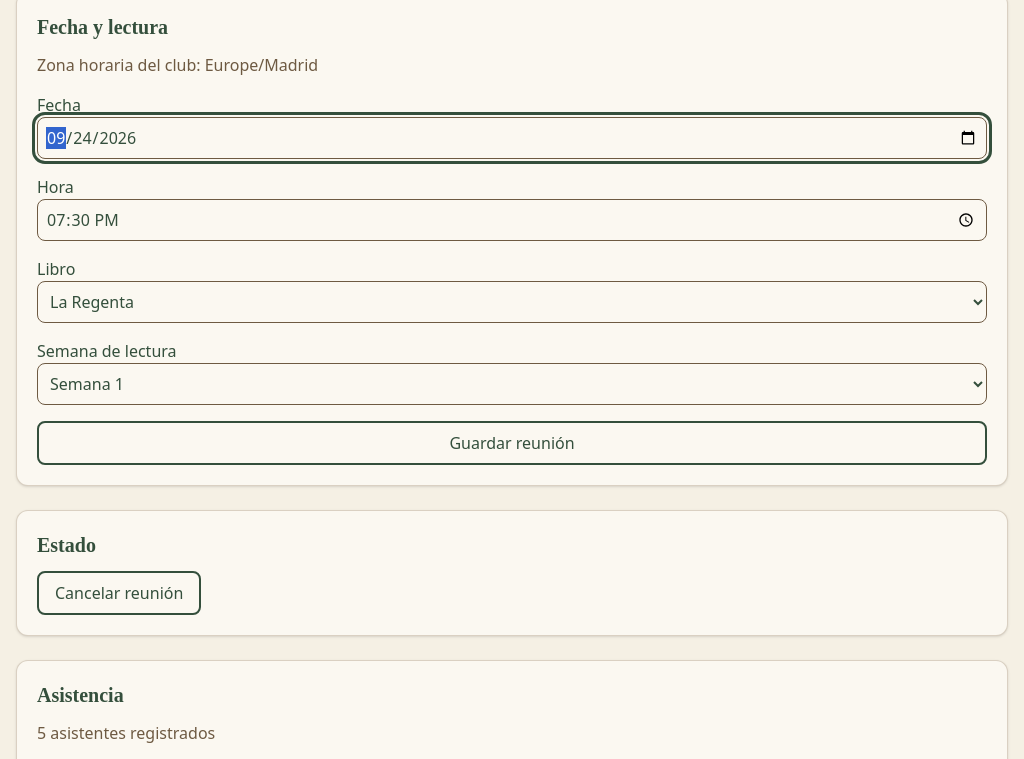
admin meeting calendar › retains a conflicting link on failure and clears week selection when the book changes
The image size is (1024, 759).
(page scrolled)
expect the date field labelled "Fecha" is shown: met, box [37,117,987,159]
Select "Semana 2 (vinculada a otra reunión)" in the dropdown labelled "Semana de lectura" at [512, 384], box [37,363,987,405]
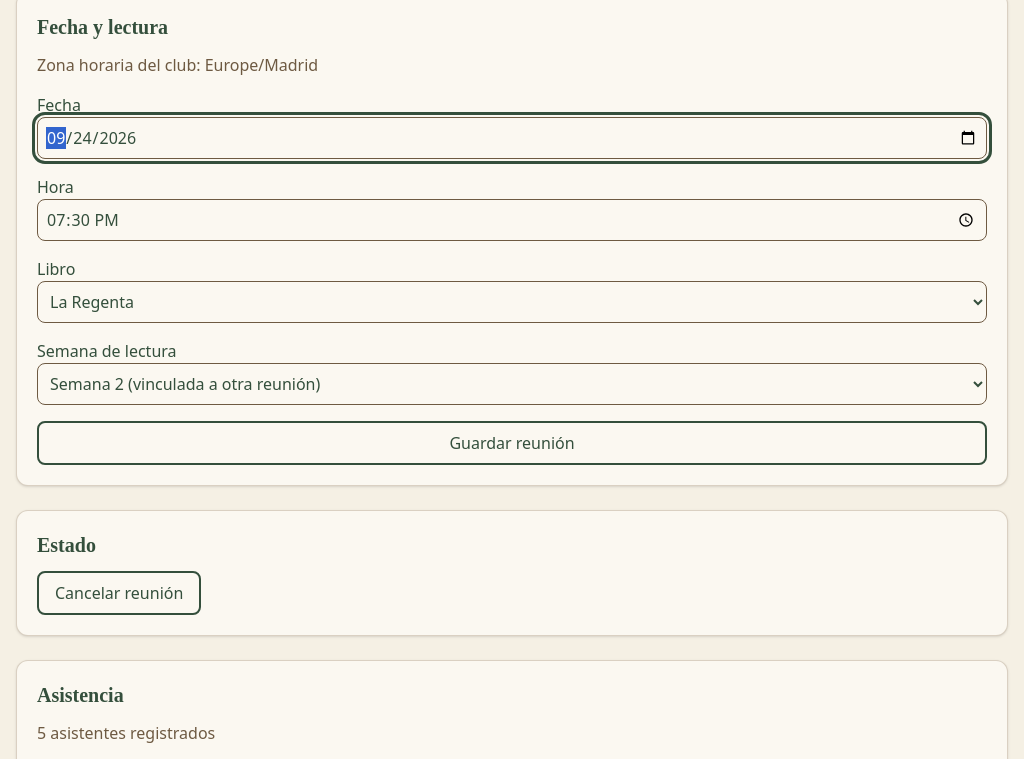
Click the button "Guardar reunión" at [512, 443], box [37,421,987,465]
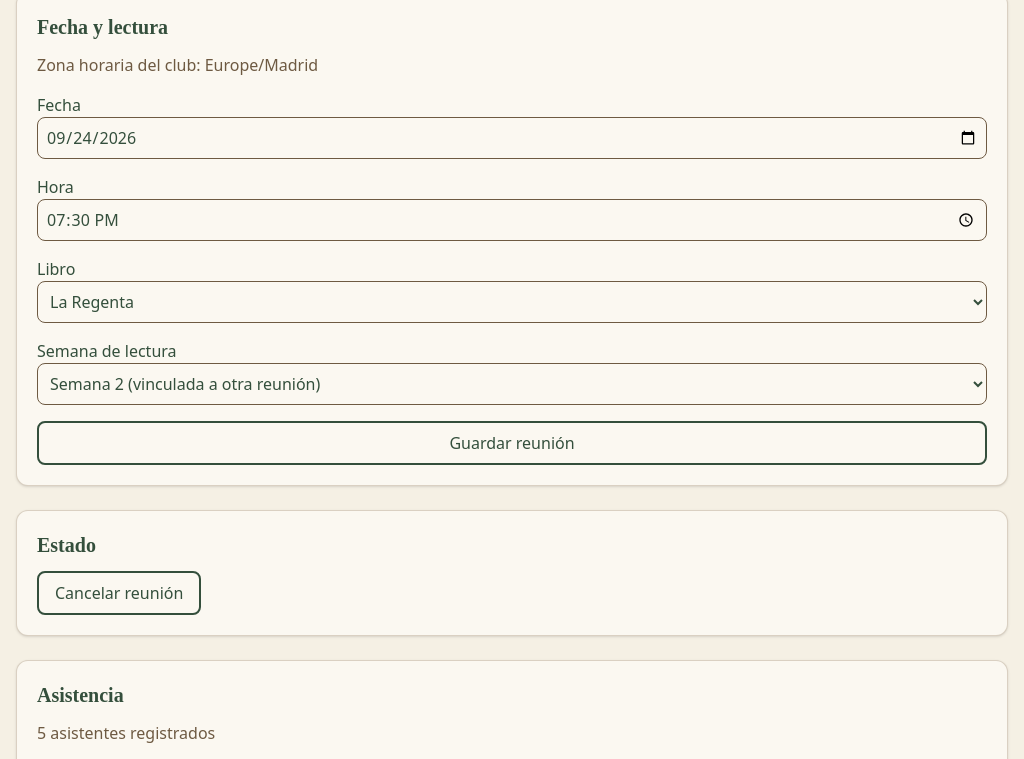
Select "Sin libro" in the dropdown labelled "Libro" at [512, 302], box [37,281,987,323]
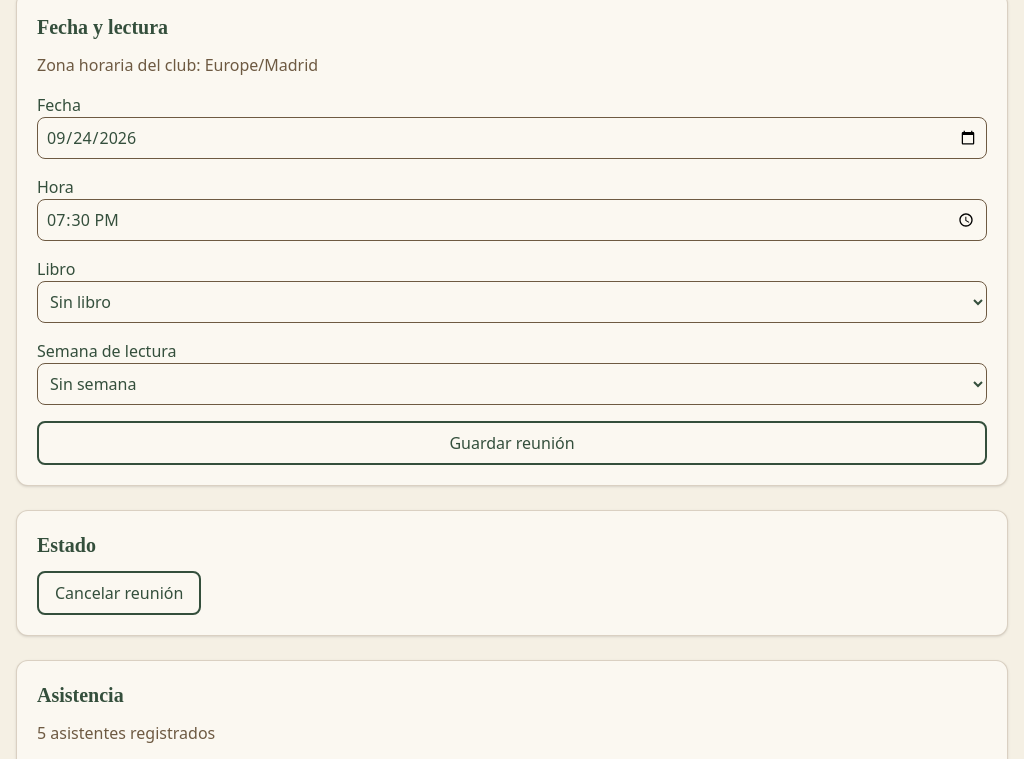
expect the dropdown labelled "Semana de lectura" is disabled: met, box [37,363,987,405]
